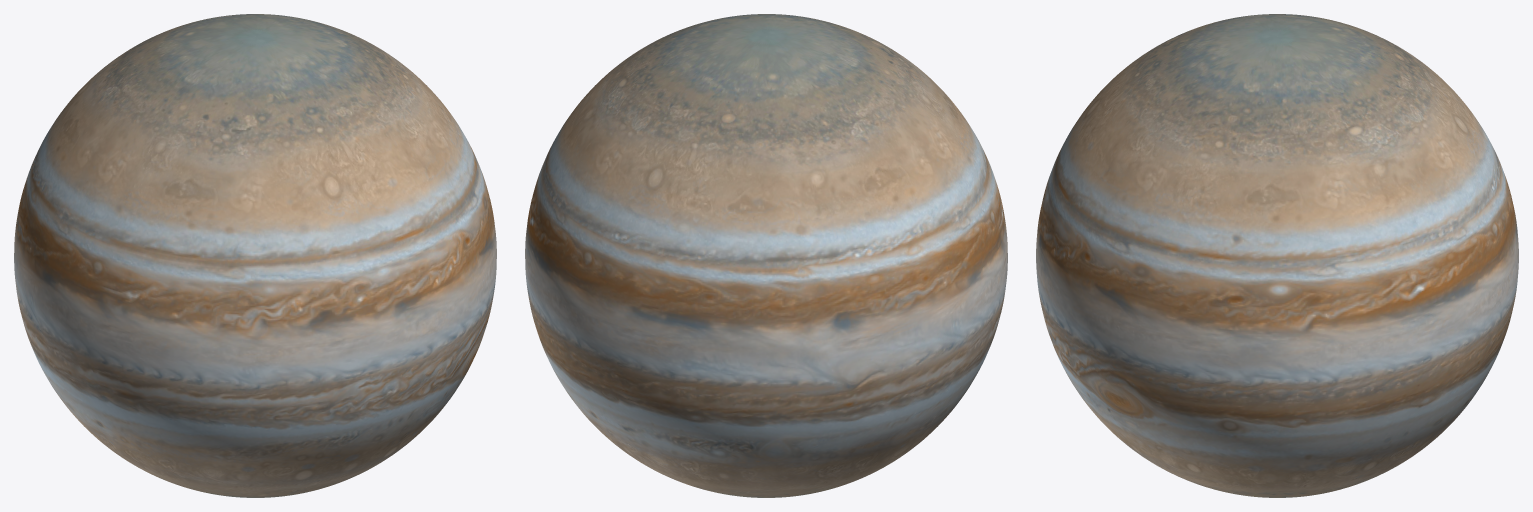
Rendered from Jupiter.compressed.glb.
3 views of the same model, side by side, from view 1: azimuth 30°, elevation 25°; view 2: azimuth 150°, elevation 25°; view 3: azimuth 270°, elevation 25° (orthographic).
Visible parts, largest first — view 1: Jupiter; view 2: Jupiter; view 3: Jupiter.
Part boxes in pixels (left/top/right/bottom): Jupiter: left=14, top=14, right=496, bottom=497; Jupiter: left=525, top=14, right=1007, bottom=497; Jupiter: left=1036, top=14, right=1518, bottom=497.
Bounding box in the file's own units: 1.99 × 2 × 1.99.
Materials: 1 (1 with a texture image).
